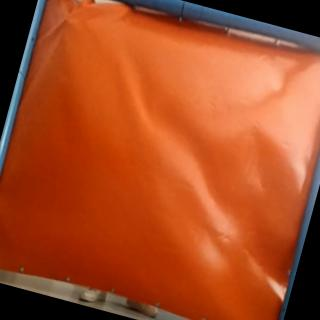Hit-hRxx: (54, 8, 80, 30)
